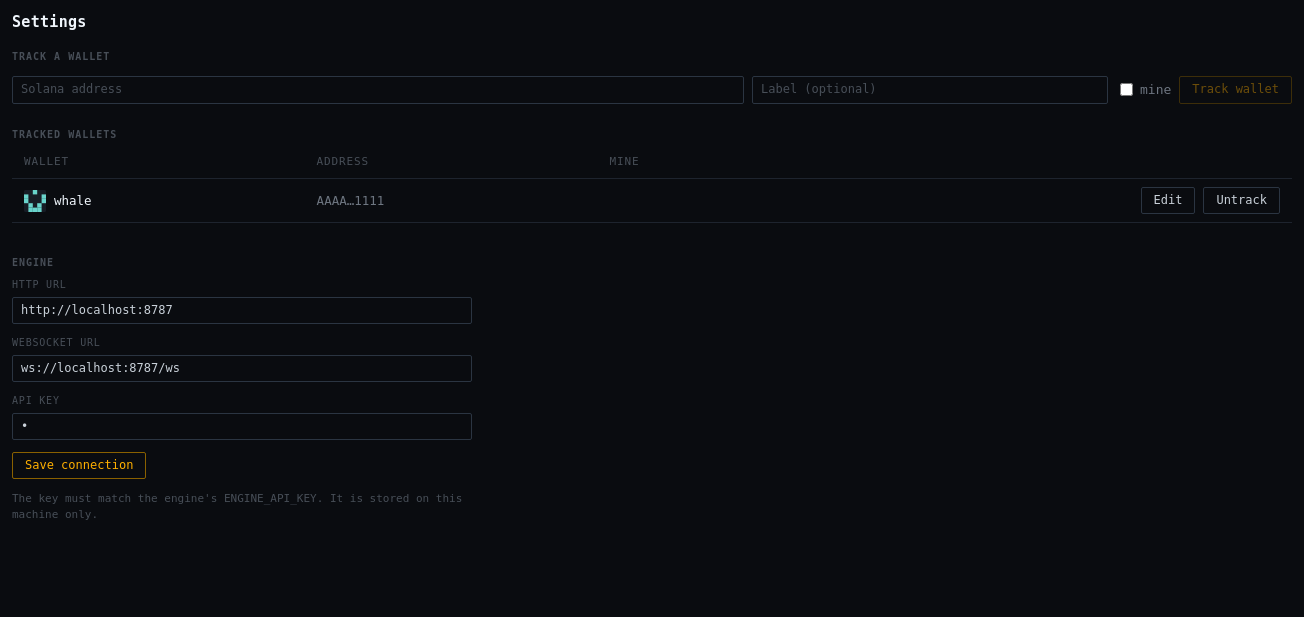
Test case: SettingsTab › reports a failed untrack rather than pretending it worked
Click the button "Untrack". click: (1242, 201)
box: [1203,187,1280,214]
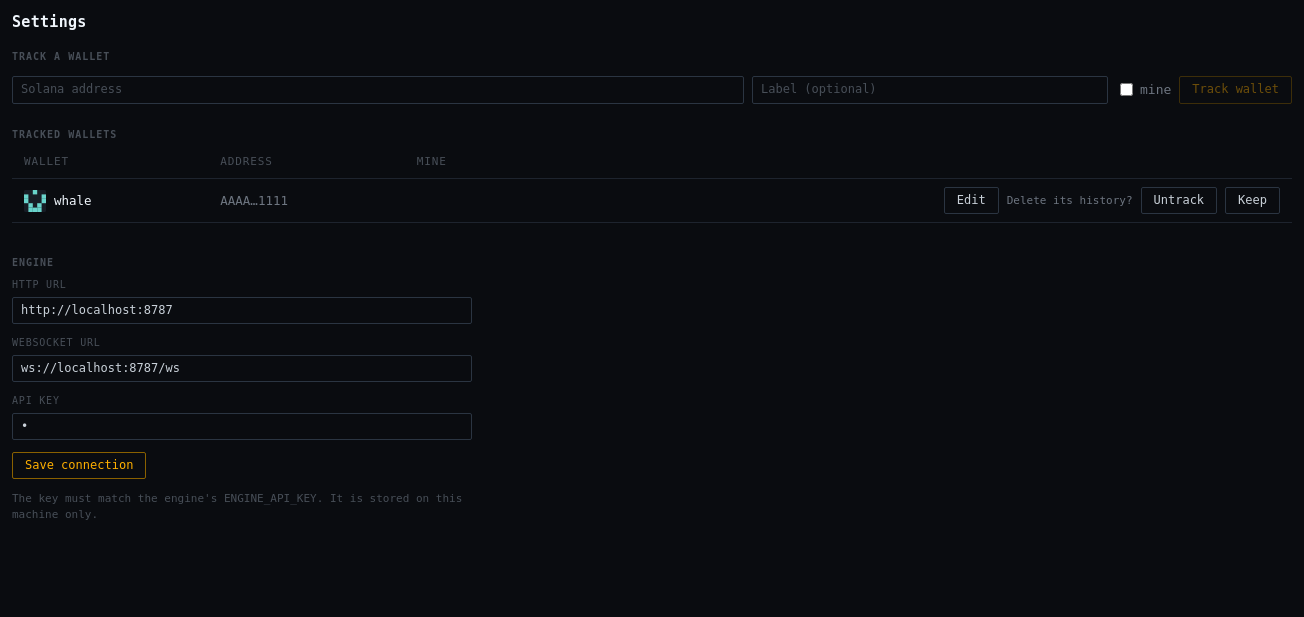
Click the button named "Confirm untracking whale". click: (1179, 201)
box: [1140,187,1217,214]
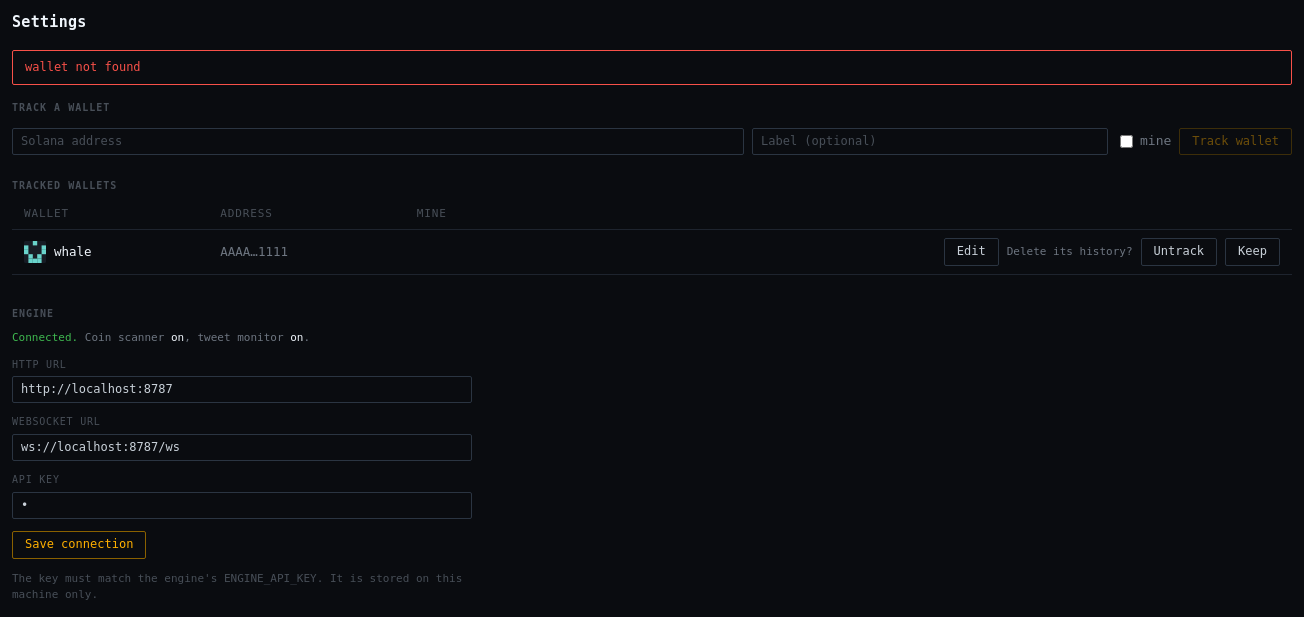
Check: the text "wallet not found" is shown, box [12,50,1292,85]
